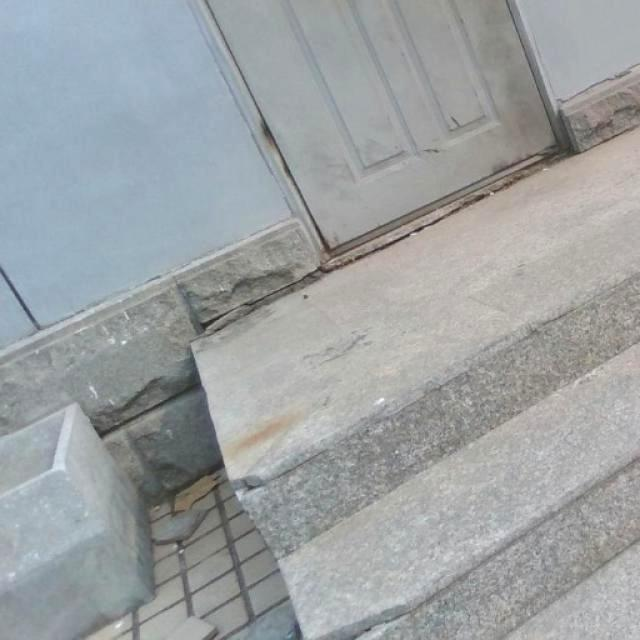stair: (220, 320, 640, 624)
